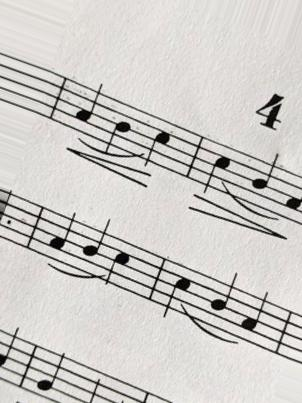note: (204, 271, 237, 338), (245, 154, 280, 216), (104, 233, 138, 295), (160, 257, 193, 320), (141, 110, 175, 170), (200, 137, 234, 197), (237, 288, 268, 353), (81, 216, 111, 283), (46, 210, 79, 269), (103, 96, 134, 156), (74, 80, 104, 141), (35, 345, 67, 401)
